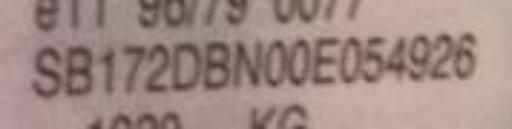letter: (63, 43, 97, 102), (29, 42, 63, 99), (310, 34, 342, 91), (230, 37, 264, 90), (169, 40, 203, 93), (202, 37, 232, 94), (359, 31, 387, 88), (285, 34, 313, 91), (336, 34, 364, 91), (144, 40, 172, 97), (118, 43, 148, 96), (451, 31, 479, 84), (262, 37, 290, 88), (428, 31, 454, 82), (406, 29, 430, 82), (98, 42, 120, 99), (386, 34, 410, 85)
